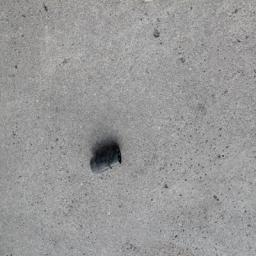FOD: (87, 140, 128, 178)
